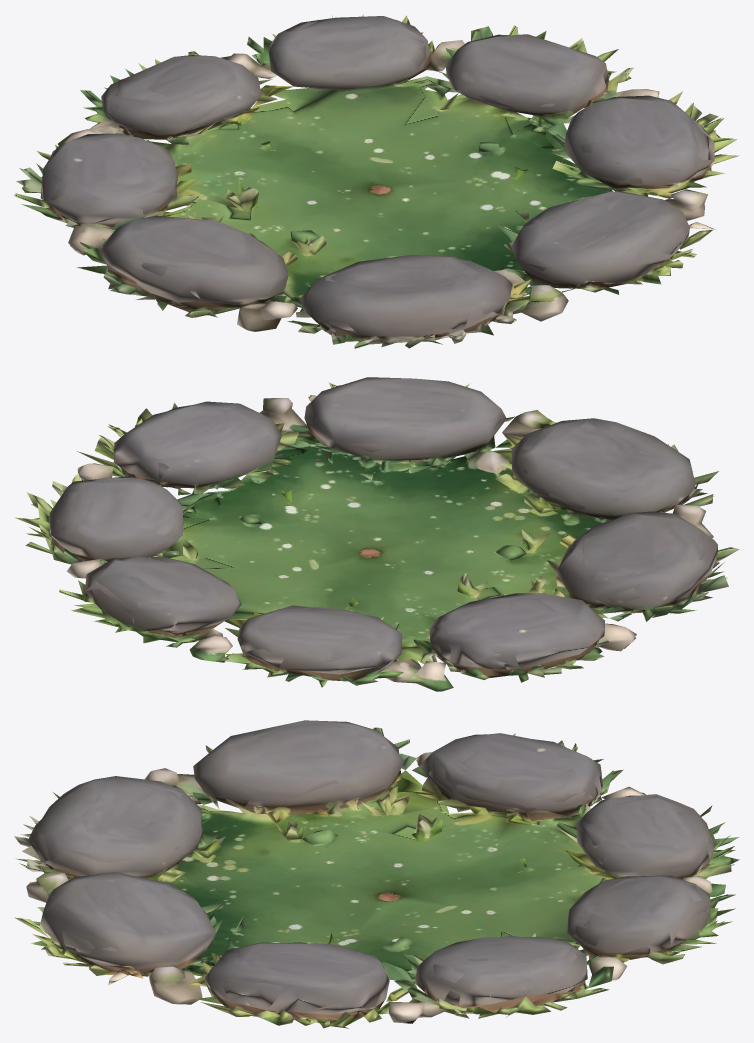
The model's file is kes-drop.glb.
3 views of the same model, one above another, from view 1: azimuth 30°, elevation 25°; view 2: azimuth 150°, elevation 25°; view 3: azimuth 270°, elevation 25° (orthographic). The views are drawn at different scales.
Size of the model in its own units: 4.2 by 0.3671 by 4.11.
Materials: 1 (1 with a texture image).
